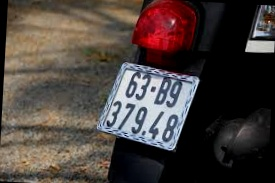Bien-so: (93, 60, 201, 153)
